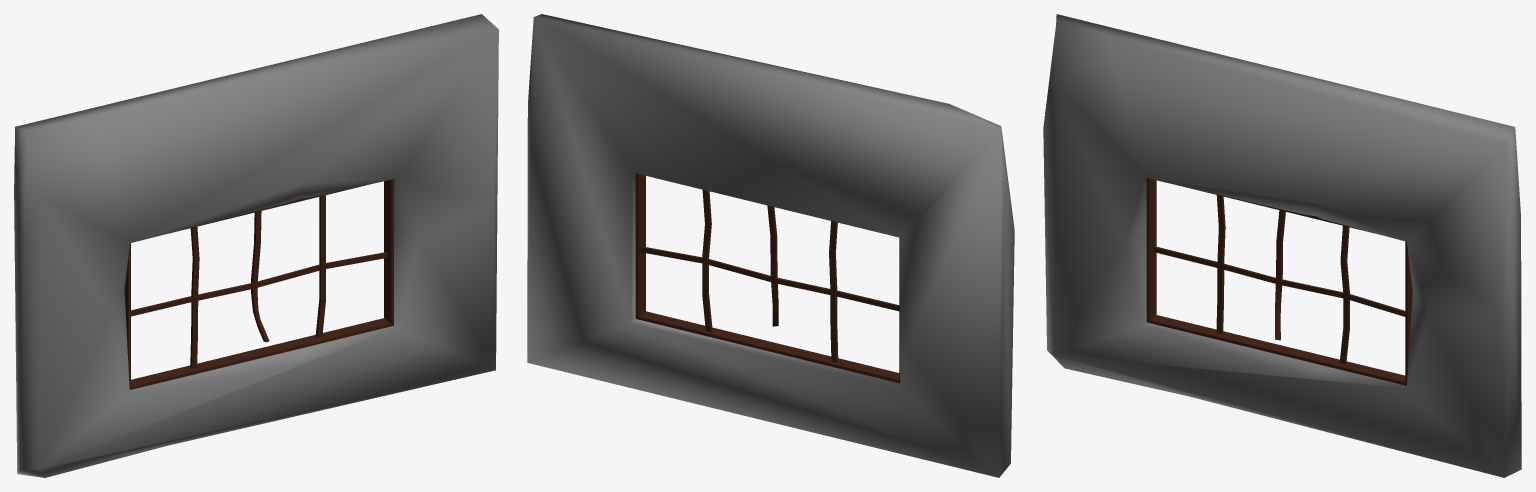
The model's file is SM_wall_window_wide.fbx.
3 renders of one model, left to right at view 1: azimuth 30°, elevation 25°; view 2: azimuth 150°, elevation 25°; view 3: azimuth 330°, elevation 25°, orthographic.
Parts seen in each view (by area): view 1: Object025; view 2: Object025; view 3: Object025.
Boxes of the visible parts, x1,y1,x2,y2 form: Object025: (14,14,498,477); Object025: (527,14,1014,477); Object025: (1043,14,1521,477).
Bounding box in the file's own units: 197 × 138 × 10.5.
